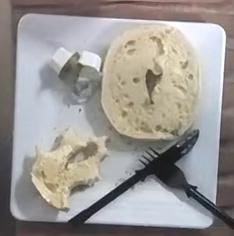bagel: (101, 23, 197, 138), (30, 126, 106, 207)
